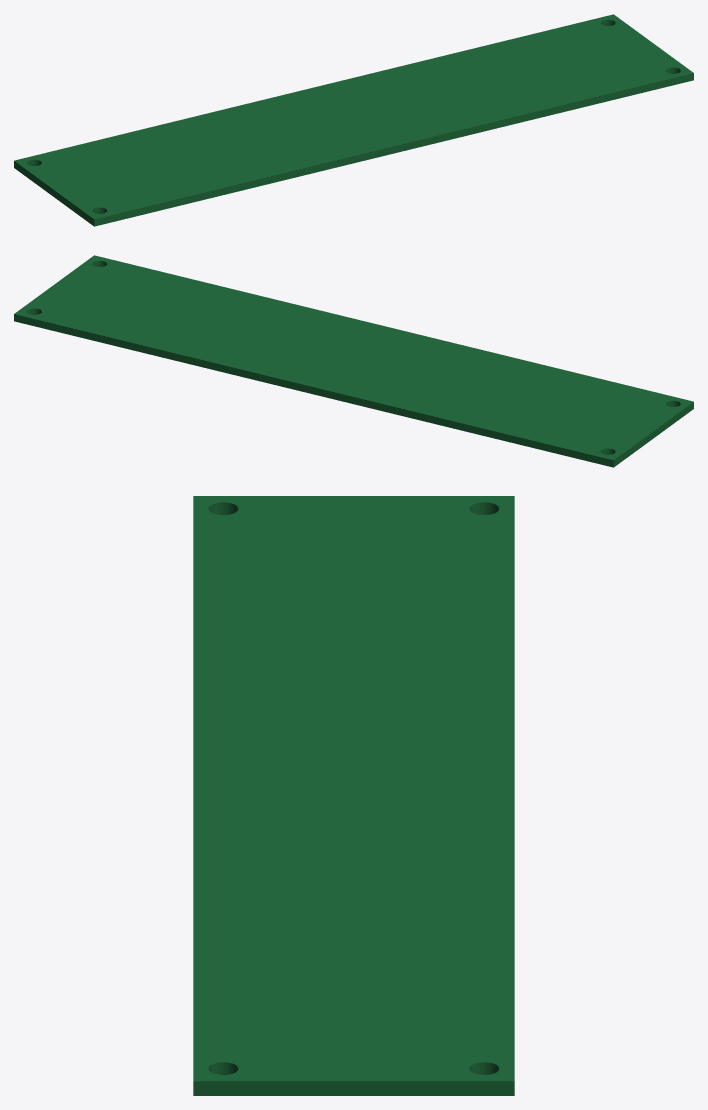
The model's file is max7219-matrix-4in1.glb.
3 views of the same model, one above another, from view 1: azimuth 30°, elevation 25°; view 2: azimuth 150°, elevation 25°; view 3: azimuth 270°, elevation 25° (orthographic). The views are drawn at different scales.
Size of the model in its own units: 0.138 by 0.0016 by 0.032.
